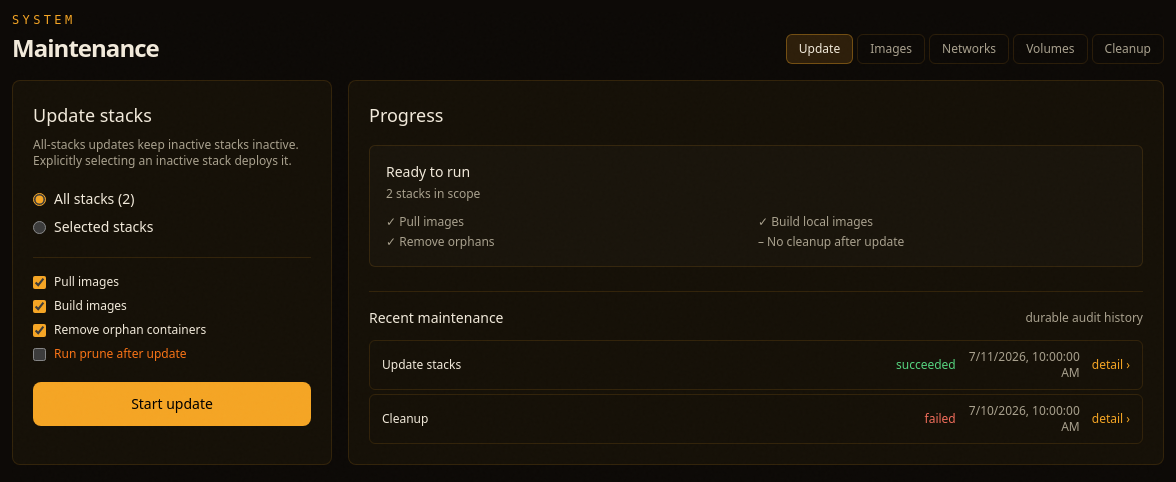
Scenario: MaintenancePage › mounts inventory tabs only after their first activation
Click the tab "Images" at (891, 49), box [857,34,925,64]
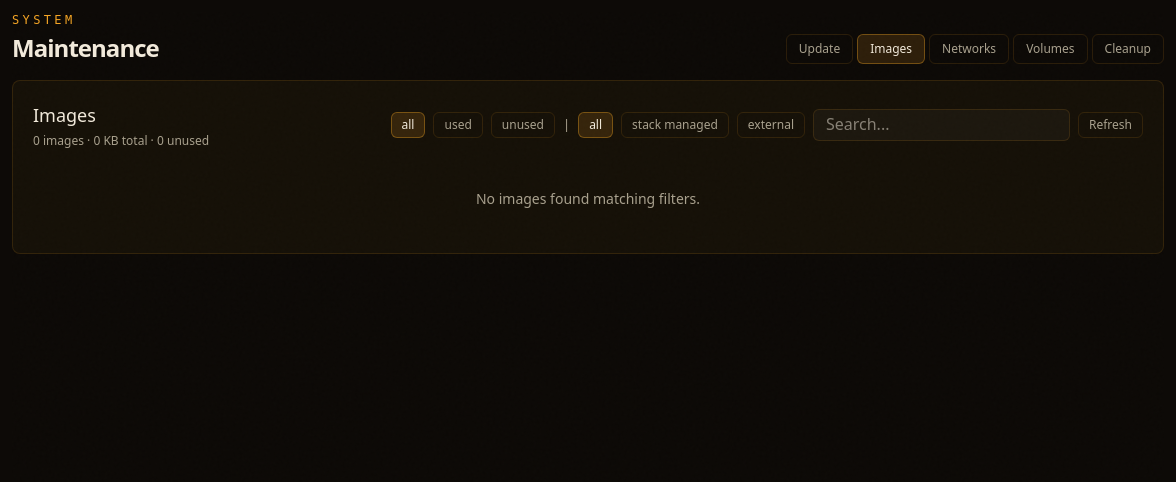
Check: the panel "Images" is shown, box [12,80,1164,254]
